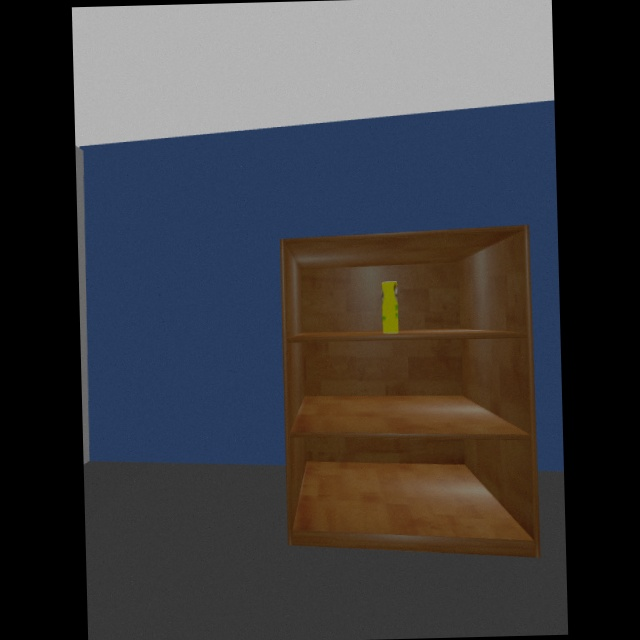chipsdose_gelb: (381, 280, 400, 334)
